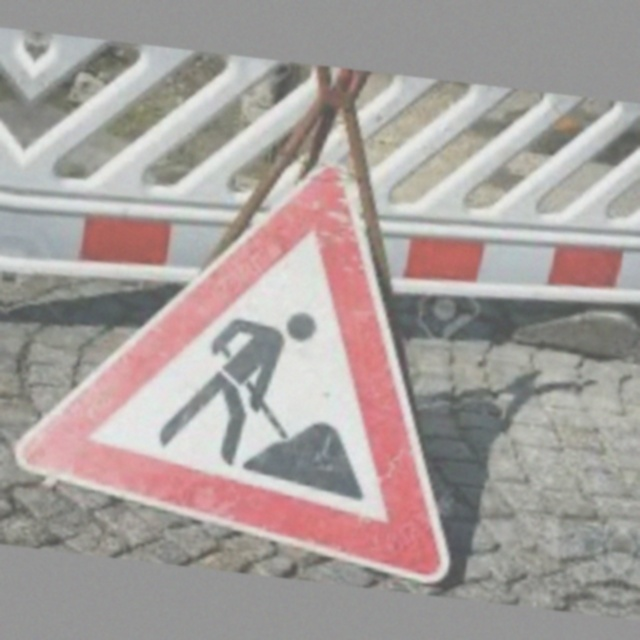Men_at_Work: (61, 151, 496, 585)
